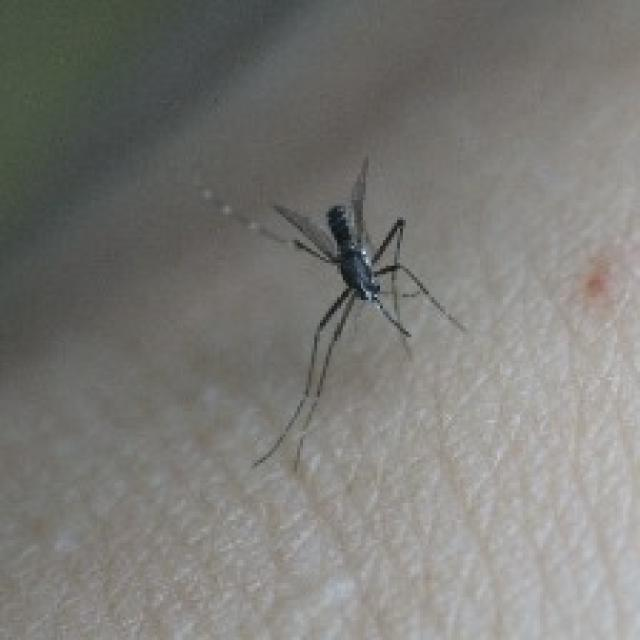aedes: (194, 152, 466, 472)
